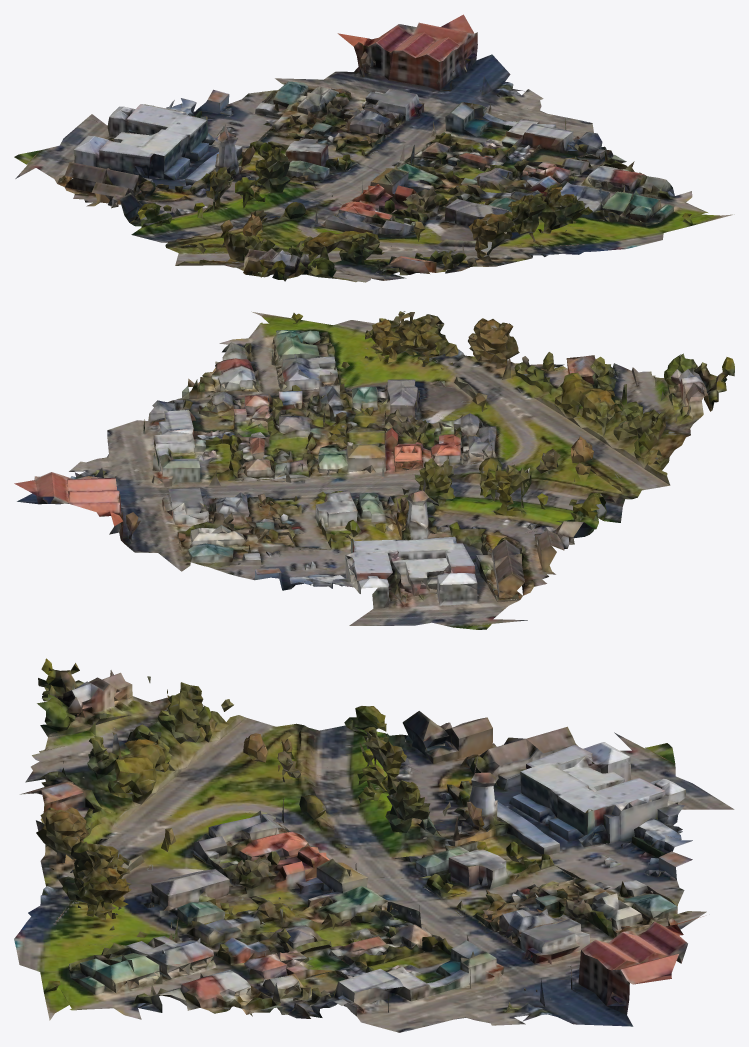
Rendered from Tile_008_006_L17.gltf.
The picture shows the model from 3 angles, top to bottom: view 1: azimuth 30°, elevation 25°; view 2: azimuth 150°, elevation 25°; view 3: azimuth 270°, elevation 25°; orthographic projection. The views are drawn at different scales.
Visible parts, largest first — view 1: Tile_+008_+006_L17; view 2: Tile_+008_+006_L17; view 3: Tile_+008_+006_L17.
Part boxes in pixels (box(x1,y1,x2,y2)): Tile_+008_+006_L17: box(14, 14, 734, 282); Tile_+008_+006_L17: box(14, 311, 734, 629); Tile_+008_+006_L17: box(14, 658, 734, 1032).
Bounding box in the file's own units: 229 × 34.85 × 232.
1 material, 1 textured.
